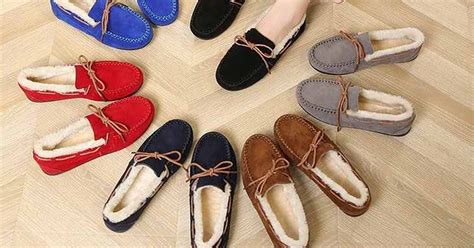gamuza: (19, 1, 423, 248)
